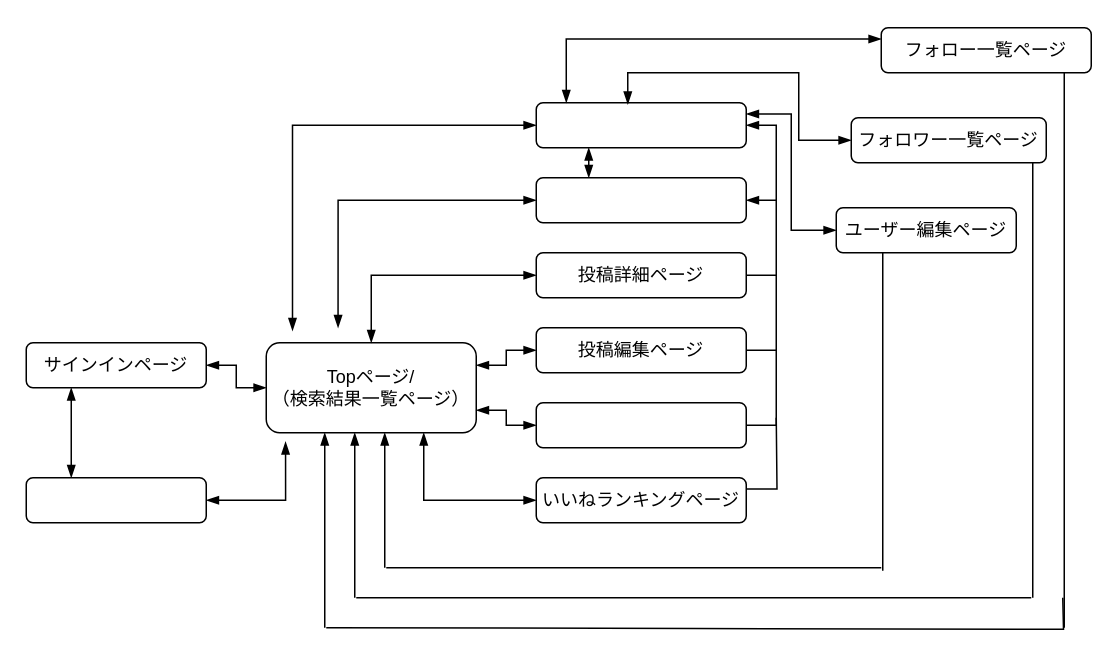
Image size: 1118x666. Some labels were removed from this diagram. Each missing label, with the box of its shape:
サインアップ: (25, 476, 206, 523)
ユーザーのマイページ: (535, 101, 746, 148)
投稿いいね一覧ページ: (535, 401, 746, 448)
新規投稿ページ: (535, 176, 746, 223)
